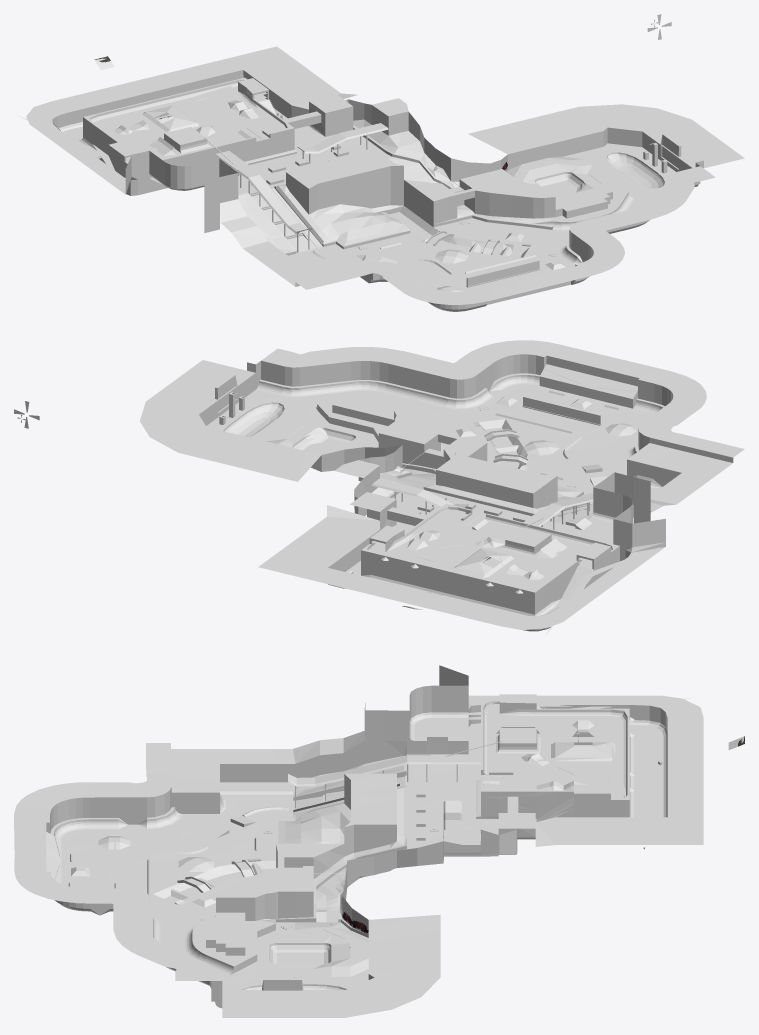
The model's file is skschl.glb.
3 renders of one model, top to bottom at view 1: azimuth 30°, elevation 25°; view 2: azimuth 150°, elevation 25°; view 3: azimuth 270°, elevation 25°, orthographic. The views are drawn at different scales.
Visible parts, largest first — view 1: SKSCHL_Col_Floor, SKSCHL_Col_Ride, SKSCHL_Col_Pipe, SKSCHL_Col_Wall; view 2: SKSCHL_Col_Floor, SKSCHL_Col_Ride, SKSCHL_Col_Pipe, SKSCHL_Col_Wall; view 3: SKSCHL_Col_Floor, SKSCHL_Col_Ride, SKSCHL_Col_Pipe, SKSCHL_Col_Wall.
Boxes of the visible parts, box(x1,y1,x2,y2) form: SKSCHL_Col_Floor: box(26, 46, 744, 304); SKSCHL_Col_Ride: box(52, 70, 700, 309); SKSCHL_Col_Pipe: box(18, 77, 698, 311); SKSCHL_Col_Wall: box(53, 14, 703, 309); SKSCHL_Col_Floor: box(139, 340, 744, 630); SKSCHL_Col_Ride: box(199, 354, 681, 629); SKSCHL_Col_Pipe: box(212, 373, 664, 635); SKSCHL_Col_Wall: box(14, 361, 733, 616); SKSCHL_Col_Floor: box(14, 694, 744, 1017); SKSCHL_Col_Ride: box(46, 665, 667, 1008); SKSCHL_Col_Pipe: box(50, 695, 694, 989); SKSCHL_Col_Wall: box(53, 701, 662, 994).
Size of the model in its own units: 330 by 39.38 by 314.
Materials: 18 (16 with a texture image).
